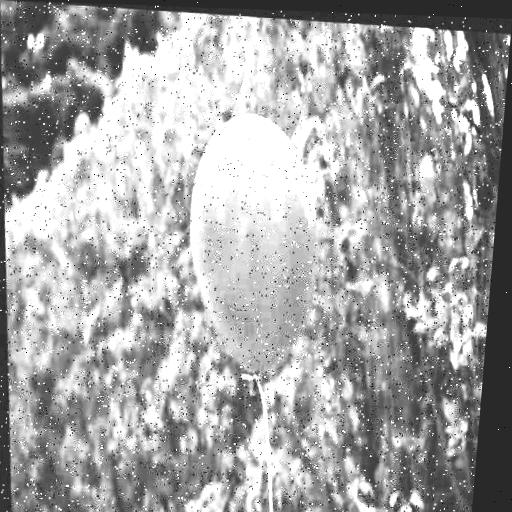balloon: (157, 97, 344, 395)
